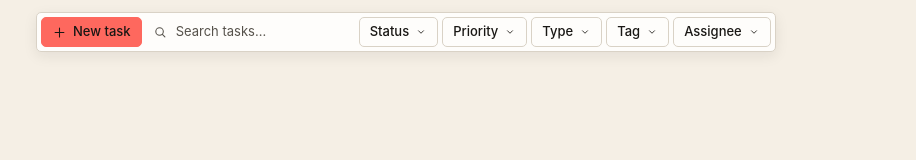
Scenario: Toolbar › opens the drawer on the created ref (success routes ?task=)
Click the button with aria-label "+ New task" at (91, 32), box [41,17,142,47]
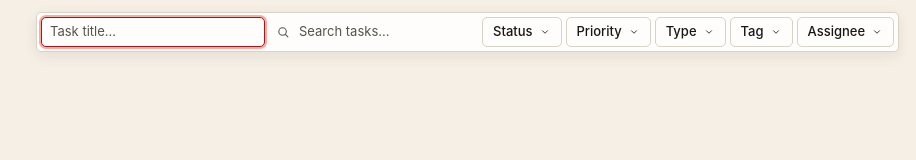
Type "Fix header" into the field named "New task title" at (153, 32), box [41,17,265,47]
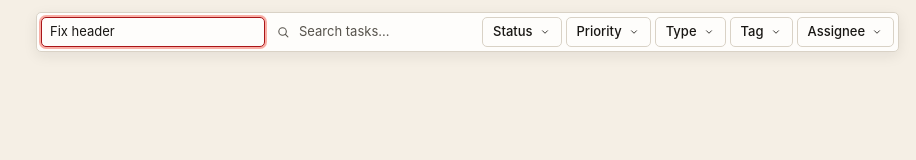
Press Enter in the field named "New task title", box [41,17,265,47]
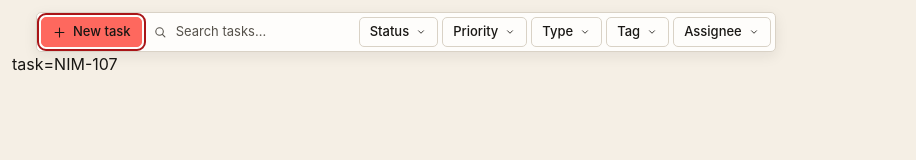
Check: the text with test id "qs" reads "task=NIM-107", box [12,54,118,74]
